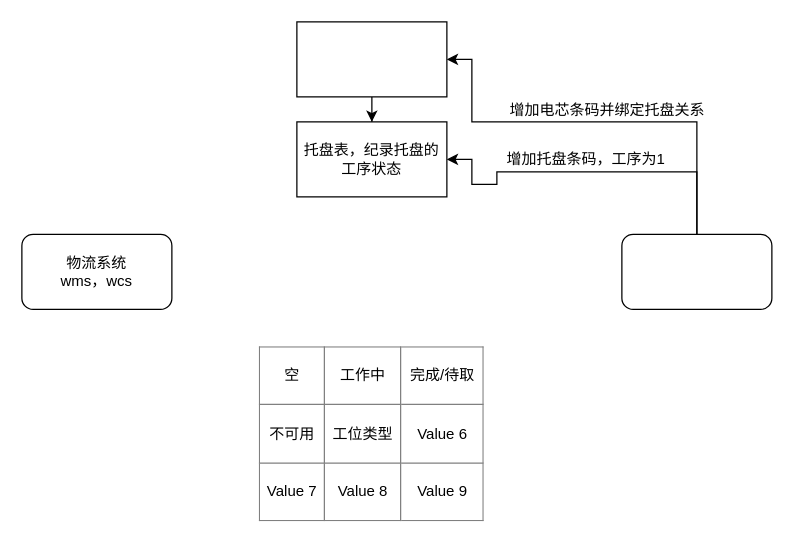
The diagram is 794 pixels wide and 544 high, and some of its shapes have lost their labels. The shapes that lost their labels are listed below. From the top down, each one's box as (x1, y1, x2, y2) in pixels, then its label:
(296, 21, 447, 97): 数据表，每一条纪录表示一个电芯，多个电芯指向同一个托盘条码
(621, 233, 772, 309): 装盘机/扫码机
